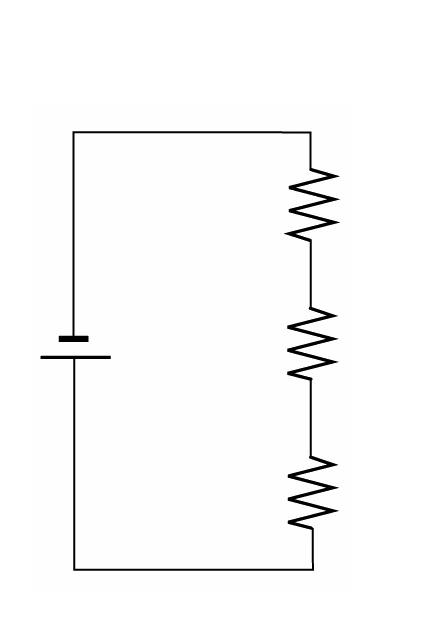resistor: (272, 430, 368, 567), (261, 128, 344, 253), (287, 291, 335, 407)
